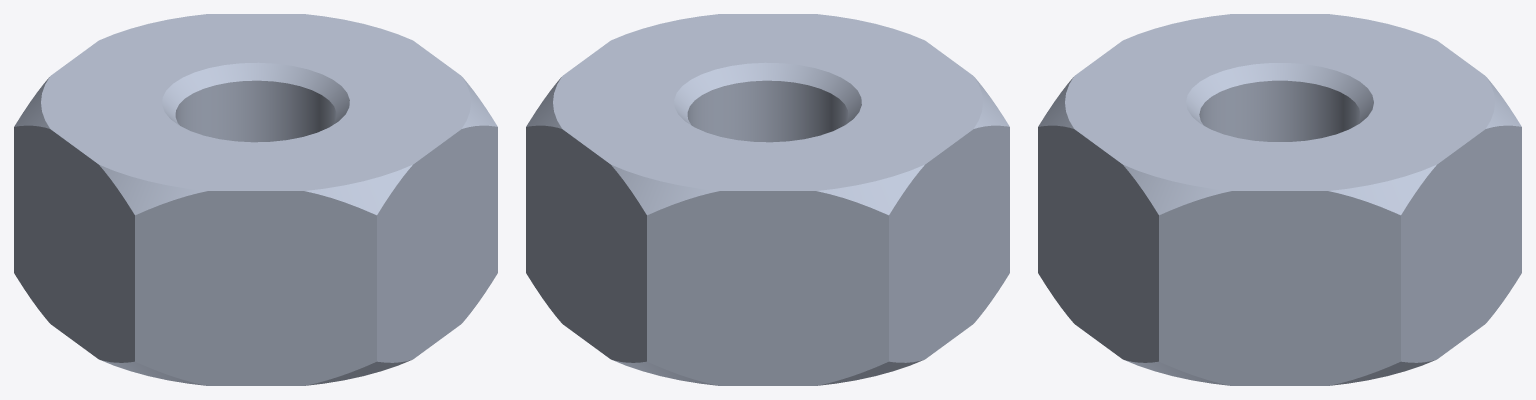
Rendered from Nut.glb.
The picture shows the model from 3 angles, left to right: view 1: azimuth 30°, elevation 25°; view 2: azimuth 150°, elevation 25°; view 3: azimuth 270°, elevation 25°; orthographic projection.
Visible parts, largest first — view 1: Nut; view 2: Nut; view 3: Nut.
Boxes of the visible parts, x1=… form: Nut: x1=14, y1=14, x2=497, y2=385; Nut: x1=526, y1=14, x2=1009, y2=385; Nut: x1=1038, y1=14, x2=1521, y2=385.
Bounding box in the file's own units: 0.0156 × 0.008 × 0.018.
